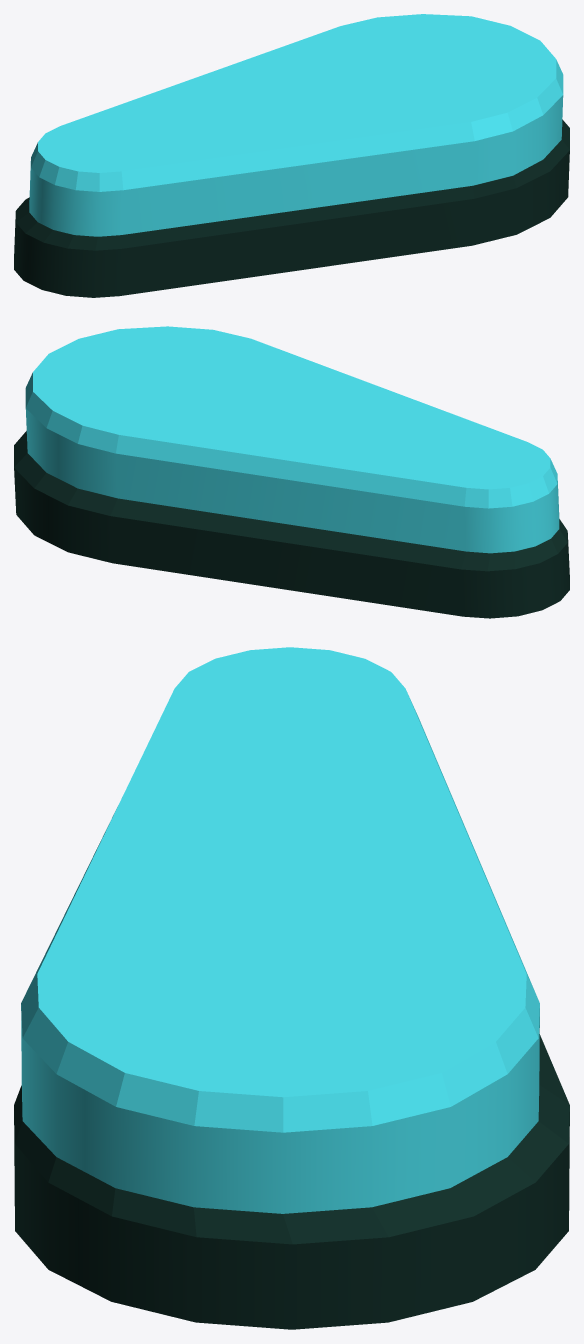
Rendered from Flippertje.FBX.
The picture shows the model from 3 angles, top to bottom: view 1: azimuth 30°, elevation 25°; view 2: azimuth 150°, elevation 25°; view 3: azimuth 270°, elevation 25°; orthographic projection. The views are drawn at different scales.
Parts seen in each view (by area): view 1: Cylinder003; view 2: Cylinder003; view 3: Cylinder003.
Boxes of the visible parts, <box> form: Cylinder003: <box>14,14,569,297</box>; Cylinder003: <box>14,326,569,618</box>; Cylinder003: <box>14,647,569,1329</box>.
Size of the model in its own units: 85.97 by 18.47 by 42.01.
